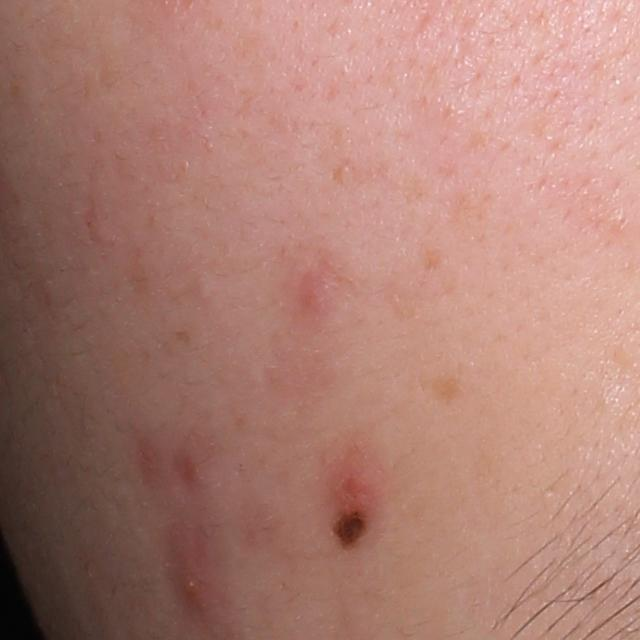comedo: (191, 277, 216, 301)
nevus: (336, 515, 365, 551)
papule: (170, 532, 214, 610), (331, 466, 382, 514), (296, 273, 339, 317), (180, 455, 208, 490)
